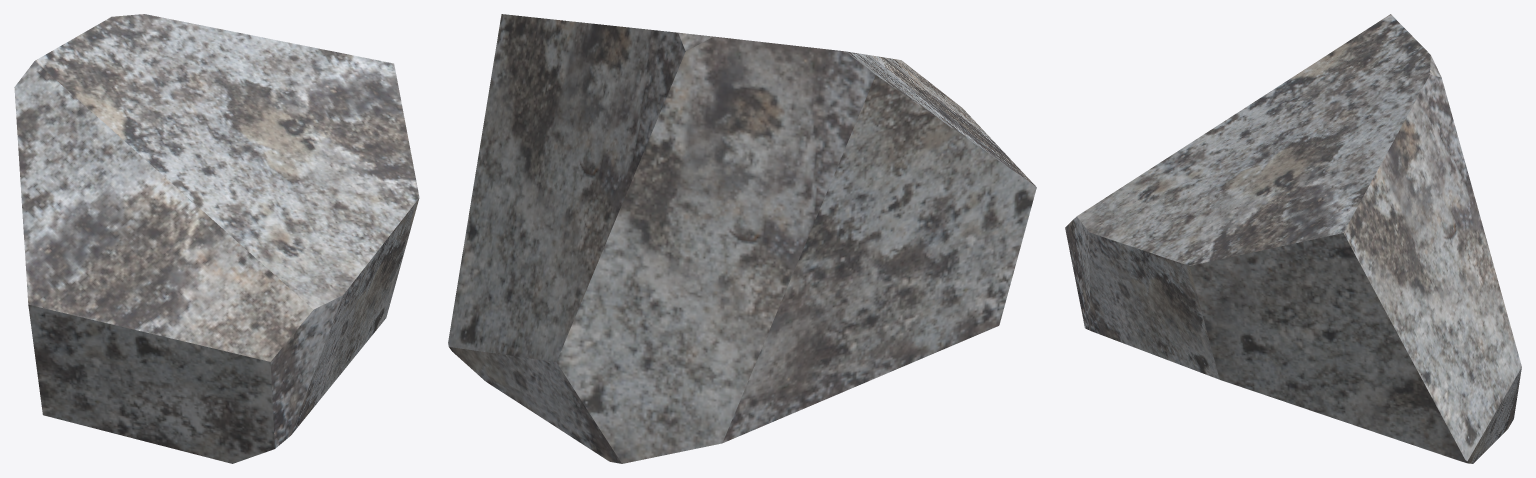
The model's file is Asteroid_Large_001_02_009_03_014.fbx.
3 views of the same model, side by side, from view 1: azimuth 30°, elevation 25°; view 2: azimuth 150°, elevation 25°; view 3: azimuth 270°, elevation 25° (orthographic). The views are drawn at different scales.
Parts seen in each view (by area): view 1: Asteroid_Large_001_02_009_03_014; view 2: Asteroid_Large_001_02_009_03_014; view 3: Asteroid_Large_001_02_009_03_014.
Boxes of the visible parts, x1,y1,x2,y2 form: Asteroid_Large_001_02_009_03_014: (14, 14, 419, 463); Asteroid_Large_001_02_009_03_014: (448, 14, 1036, 463); Asteroid_Large_001_02_009_03_014: (1065, 14, 1521, 463).
Bounding box in the file's own units: 12.35 × 10.2 × 12.08.
